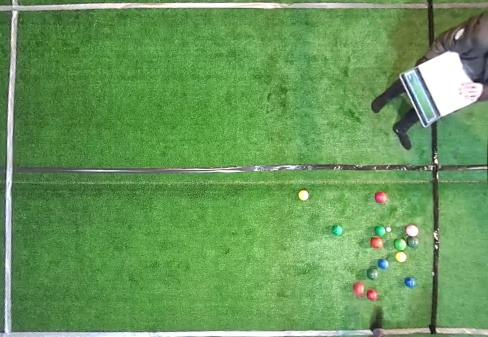blue: (378, 259, 388, 269), (406, 278, 416, 288)
green: (407, 237, 419, 248), (395, 239, 406, 250), (367, 269, 378, 280), (375, 226, 385, 236), (333, 226, 343, 235)
red: (354, 283, 365, 296), (371, 238, 383, 249), (406, 225, 418, 236), (375, 192, 387, 203), (367, 290, 378, 301)
vline: (431, 127, 487, 336), (0, 0, 19, 336), (427, 0, 487, 42)
white: (386, 227, 391, 232)
yellow: (298, 190, 309, 201), (395, 252, 407, 262)
